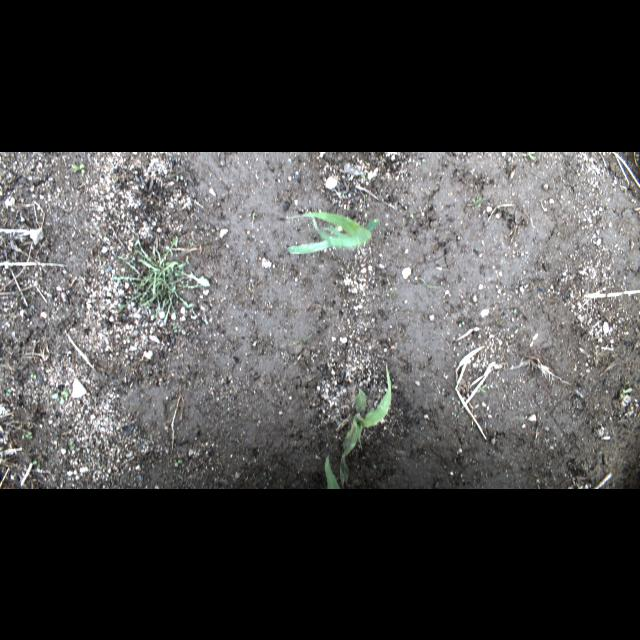crop: (338, 363, 392, 485), (288, 210, 380, 254), (324, 452, 340, 486)
weed: (115, 230, 209, 326), (67, 160, 91, 176), (519, 152, 541, 168), (52, 386, 70, 404), (4, 387, 15, 408), (22, 428, 34, 442), (621, 385, 635, 397), (466, 197, 482, 207)
